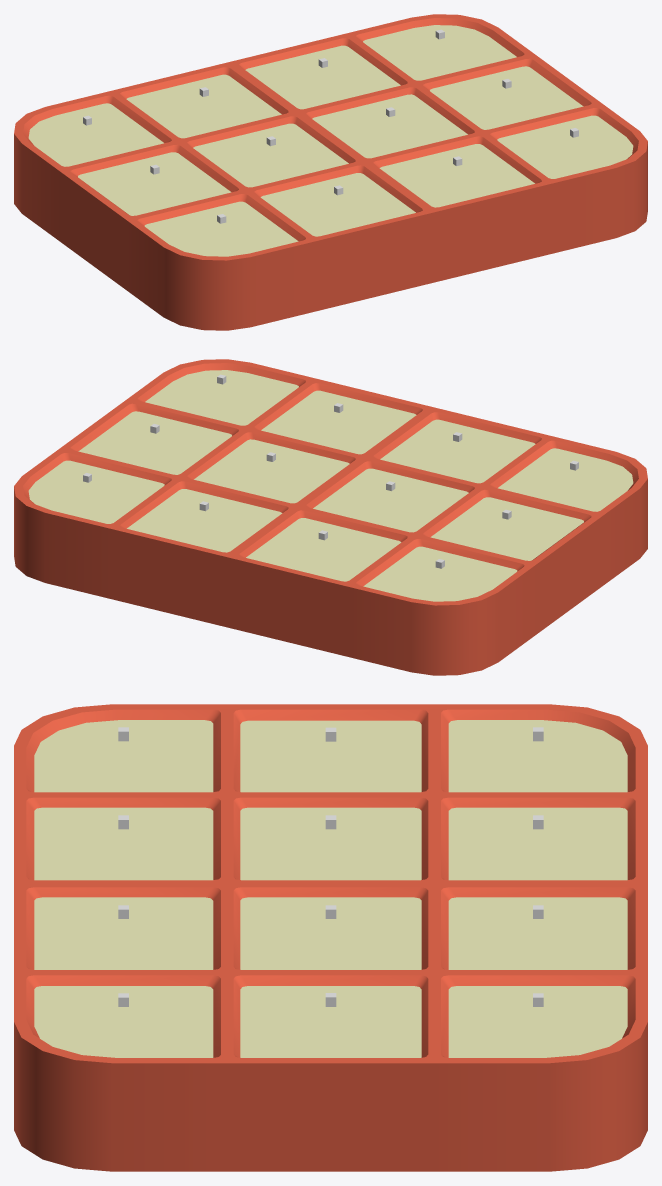
The picture shows the model from 3 angles, top to bottom: view 1: azimuth 30°, elevation 25°; view 2: azimuth 150°, elevation 25°; view 3: azimuth 270°, elevation 25°; orthographic projection. The views are drawn at different scales.
Parts seen in each view (by area): view 1: Grid_3x4; view 2: Grid_3x4; view 3: Grid_3x4.
Boxes of the visible parts, x1,y1,x2,y2 form: Grid_3x4: (14, 14, 647, 330); Grid_3x4: (14, 359, 647, 675); Grid_3x4: (14, 704, 647, 1171).
Bounding box in the file's own units: 16.22 × 2.73 × 12.11.
